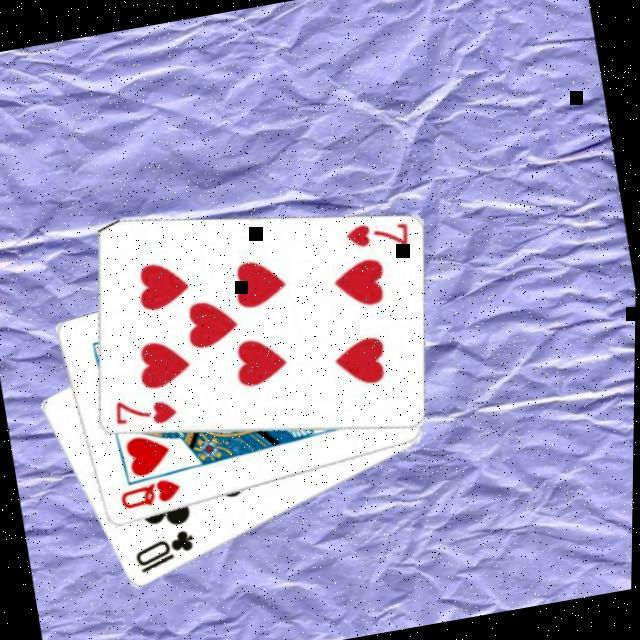10C: (132, 526, 204, 580)
7H: (342, 214, 417, 261), (110, 390, 184, 436)
QH: (118, 474, 188, 516)
